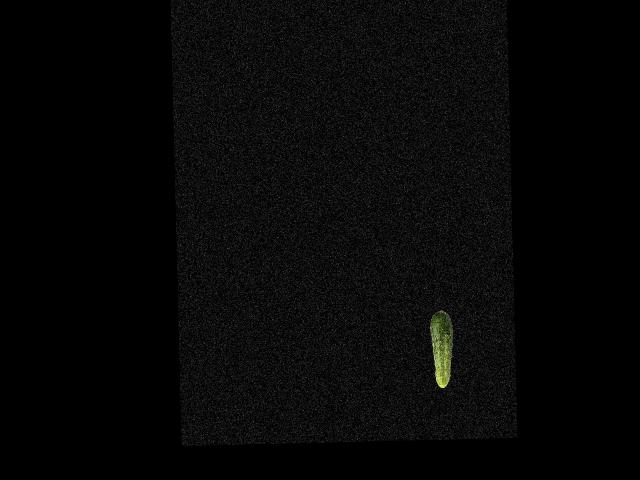cucumber: (429, 309, 455, 387)
